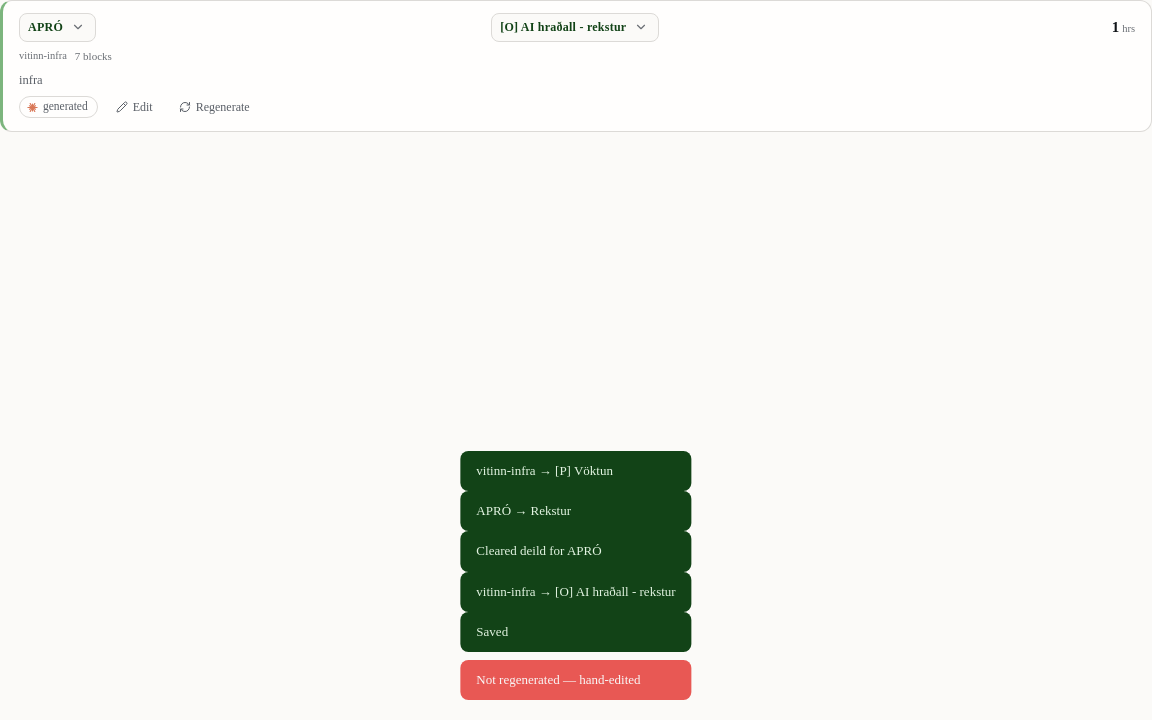
BillingGroup line text (FR-26/FR-31/FR-33/FR-35) › shows a rejection toast when regenerate is already running
Click the button "Regenerate" at (214, 107), box [169, 95, 260, 119]
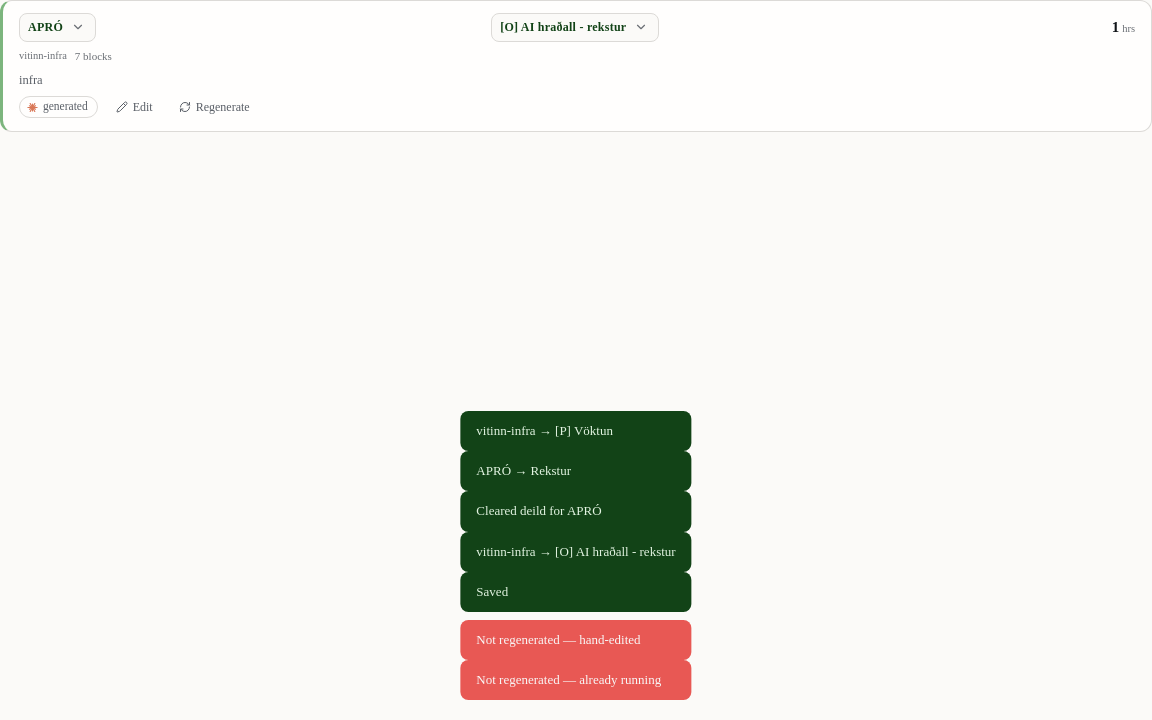
Expected: the text "Not regenerated — already running" is shown, [460, 660, 692, 700]
